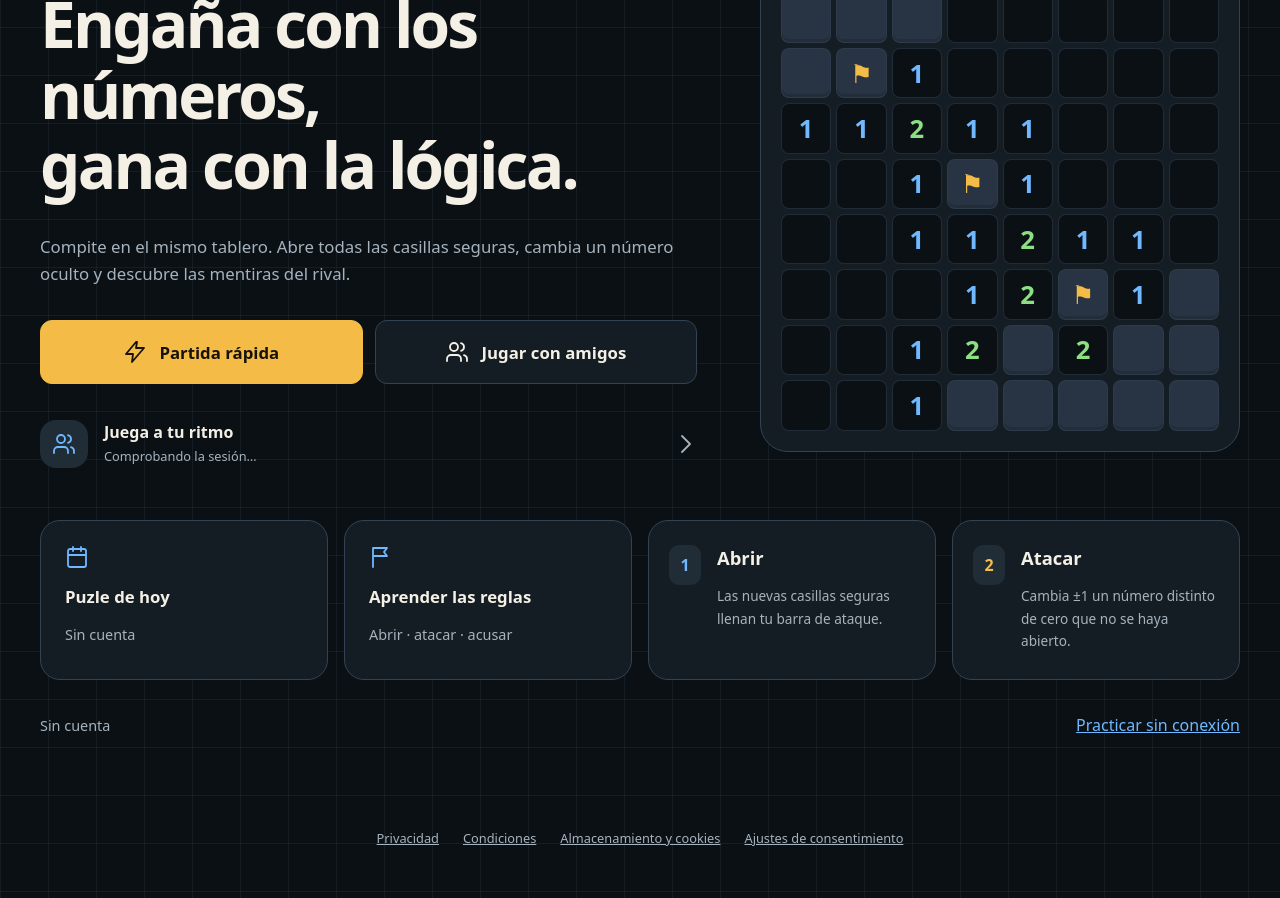
es renders each purpose and clearing boundary in its own locale
The width and height of the screenshot is (1280, 898).
(page scrolled)
Click the link "Almacenamiento y cookies".
click(640, 838)  # box [560, 829, 720, 847]
(page scrolled)
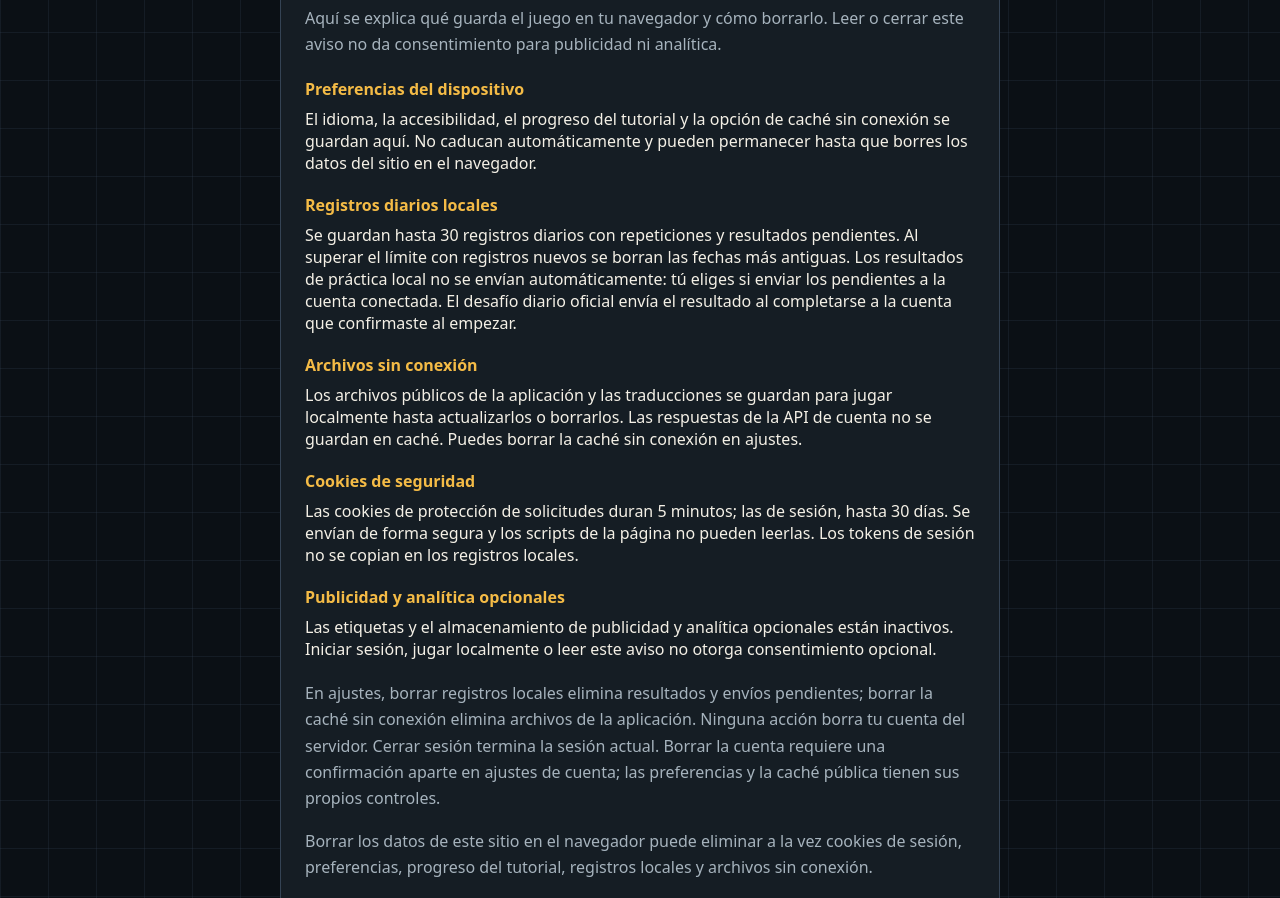
Expected: the text "Preferencias del dispositivo" is shown, [305, 78, 524, 100]
Expected: the text "El idioma, la accesibilidad, el progreso del tutorial y la opción de caché sin conexión se guardan aquí. No caducan auto" is shown, [305, 108, 968, 174]
Expected: the text "Registros diarios locales" is shown, [305, 194, 498, 216]
